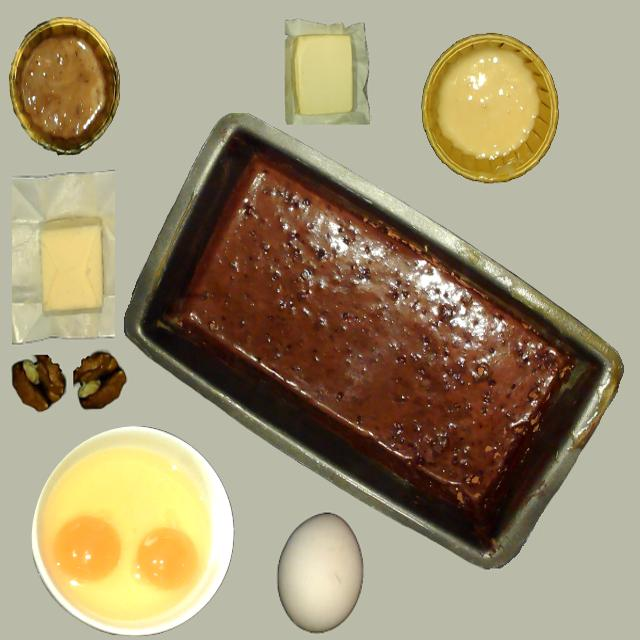Egg: (53, 515, 121, 583), (135, 527, 197, 590)
